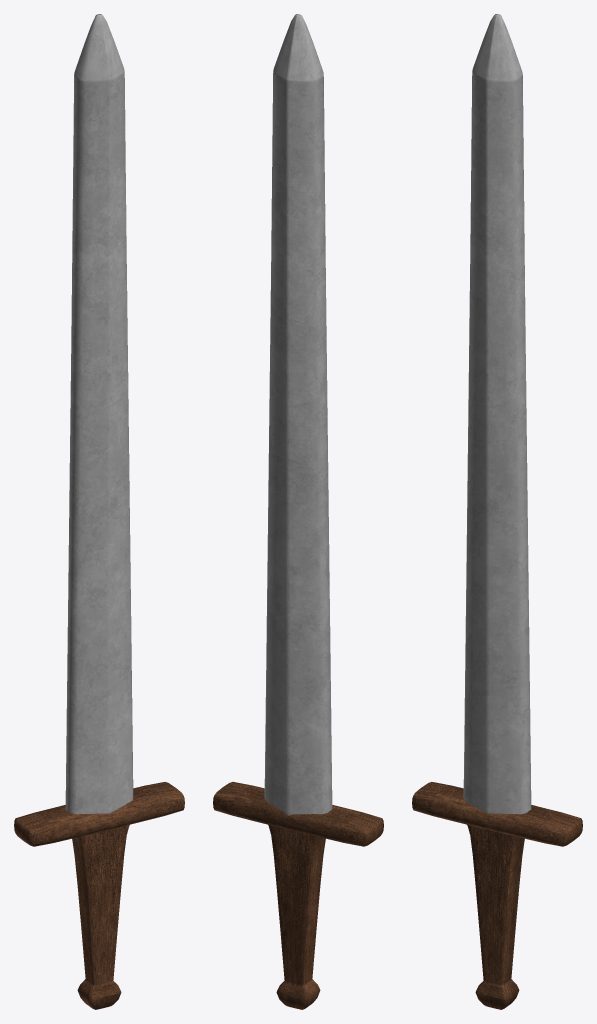
The model's file is sword.glb.
The picture shows the model from 3 angles, left to right: view 1: azimuth 30°, elevation 25°; view 2: azimuth 150°, elevation 25°; view 3: azimuth 330°, elevation 25°; orthographic projection.
Visible parts, largest first — view 1: group3 (×3); view 2: group3 (×3); view 3: group3 (×3).
Part boxes in pixels (box(x1,y1,x2,y2)): group3 (×3): box(14, 14, 184, 1009); group3 (×3): box(213, 14, 383, 1009); group3 (×3): box(412, 14, 582, 1009).
Bounding box in the file's own units: 0.4901 × 2.95 × 0.1218.
3 materials, 3 textured.
